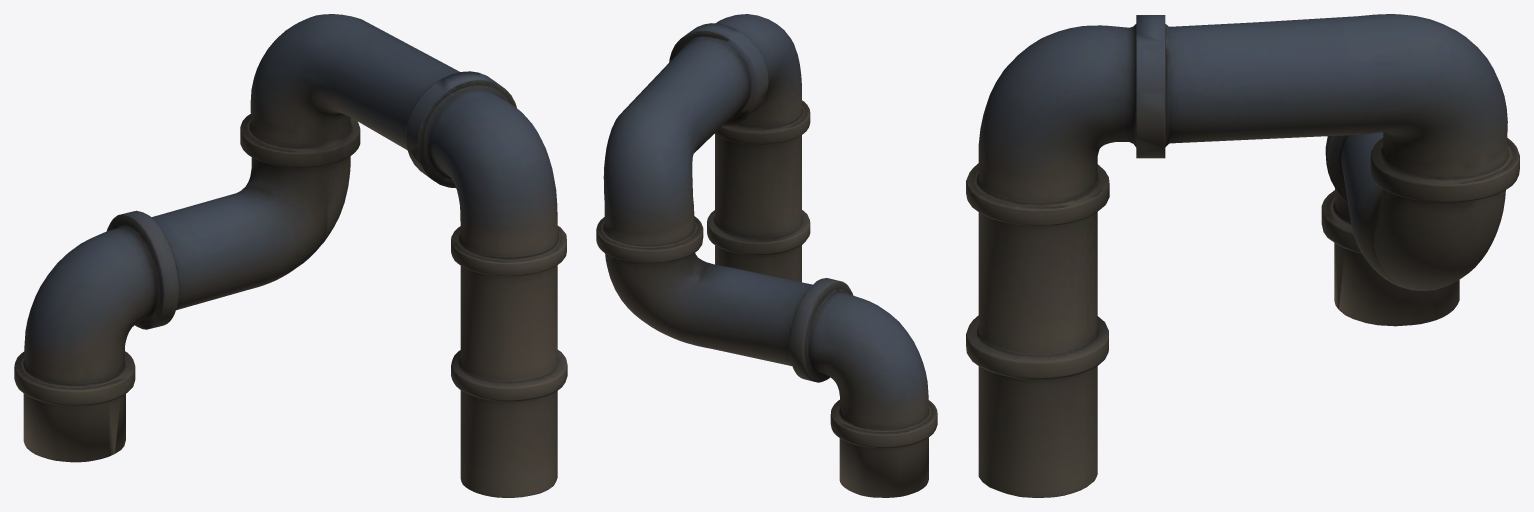
File: Industrial__l-shaped_industrial_pipe_3b570c7e_v4.cluster.glb
The picture shows the model from 3 angles, left to right: view 1: azimuth 30°, elevation 25°; view 2: azimuth 150°, elevation 25°; view 3: azimuth 270°, elevation 25°; orthographic projection. The views are drawn at different scales.
Parts seen in each view (by area): view 1: material; view 2: material; view 3: material.
Part boxes in pixels (<box>): material: <box>14,14,567,497</box>; material: <box>596,14,937,497</box>; material: <box>966,14,1519,497</box>.
Size of the model in its own units: 1.9 by 1.7 by 1.9.
1 material, 1 textured.
